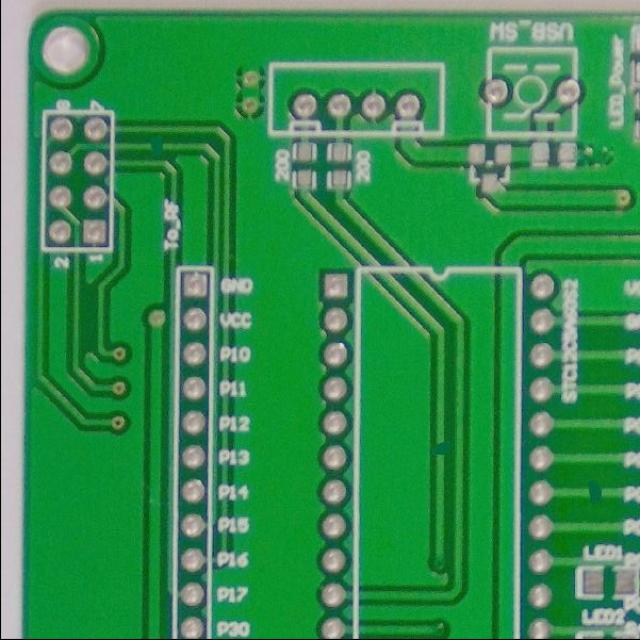Open_Circuit: (575, 475, 616, 504), (140, 134, 172, 156), (429, 434, 451, 464)
